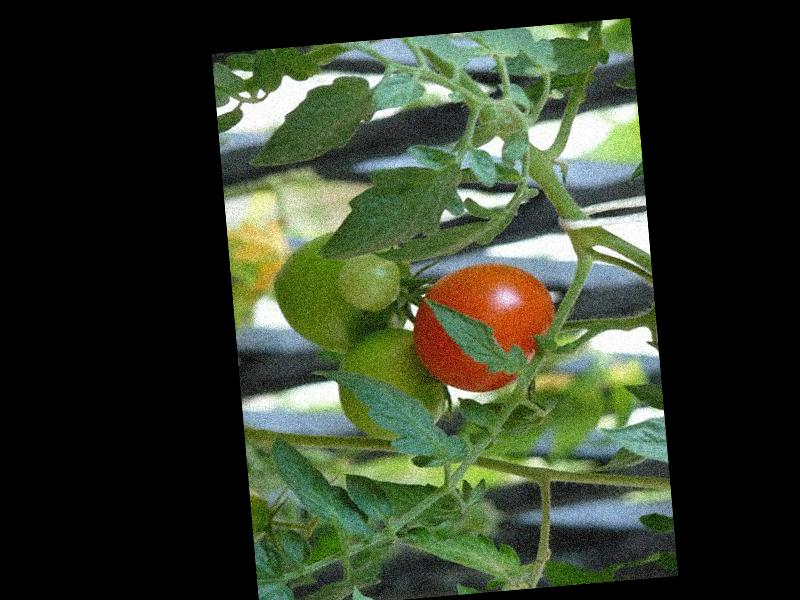Tomato: (409, 257, 561, 397)
